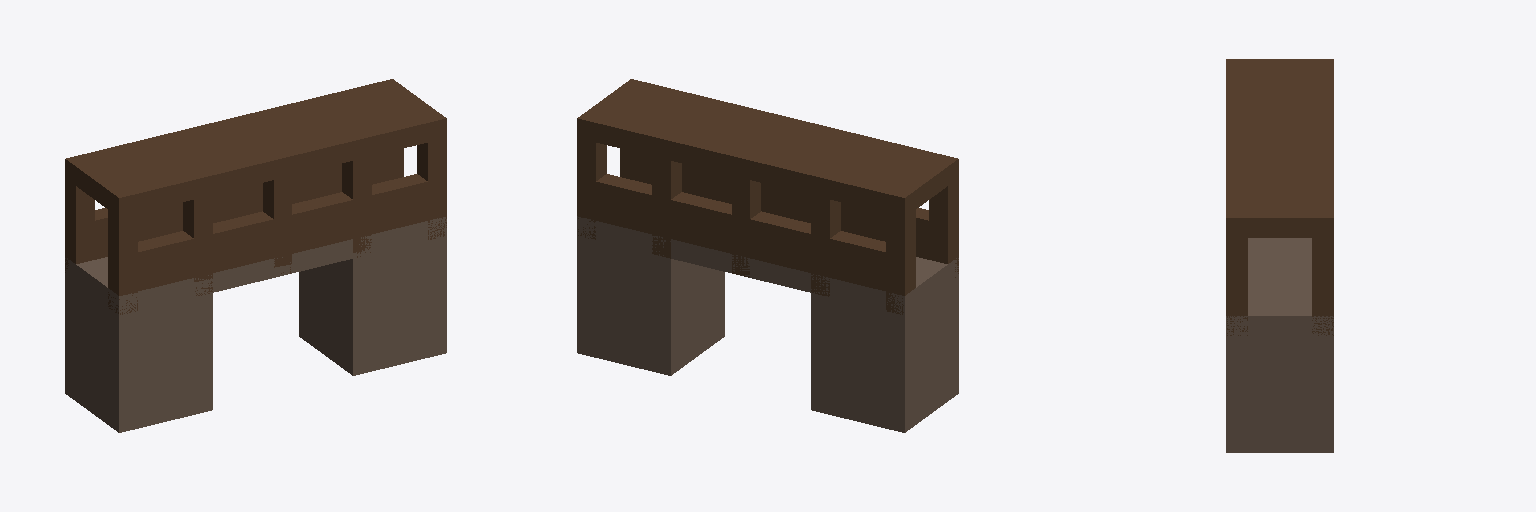
The model's file is pallisadegate.obj.
3 views of the same model, side by side, from view 1: azimuth 30°, elevation 25°; view 2: azimuth 150°, elevation 25°; view 3: azimuth 270°, elevation 25° (orthographic).
Parts seen in each view (by area): view 1: Cube.012_Cube.013, Cube.002_Cube.003; view 2: Cube.012_Cube.013, Cube.002_Cube.003; view 3: Cube.012_Cube.013, Cube.002_Cube.003.
Boxes of the visible parts, box(x1,y1,x2,y2) form: Cube.012_Cube.013: box(65, 79, 446, 314); Cube.002_Cube.003: box(65, 217, 446, 432); Cube.012_Cube.013: box(577, 79, 958, 314); Cube.002_Cube.003: box(577, 216, 958, 432); Cube.012_Cube.013: box(1226, 59, 1333, 335); Cube.002_Cube.003: box(1226, 238, 1333, 452).
Bounding box in the file's own units: 3.5 × 2.4 × 1.